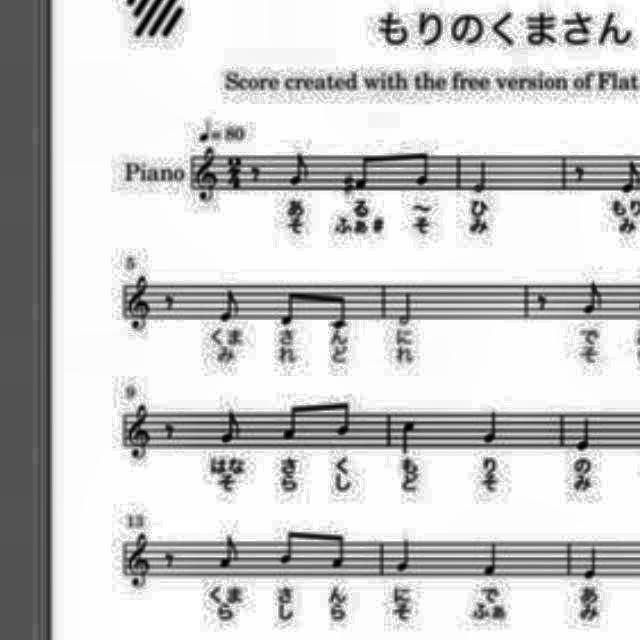Eighth-note: (324, 280, 360, 336), (280, 384, 312, 444), (274, 281, 310, 331), (352, 148, 384, 196), (329, 390, 358, 442), (214, 406, 246, 449), (411, 148, 439, 196), (276, 524, 304, 572), (212, 532, 244, 572), (216, 286, 246, 326), (576, 280, 606, 316), (326, 530, 350, 574), (284, 150, 310, 188)
Eighth-rest: (158, 414, 180, 446), (157, 286, 181, 314), (160, 542, 180, 574), (532, 286, 552, 314), (568, 162, 590, 185), (250, 162, 266, 186)
Half-note: (391, 284, 422, 328), (468, 154, 496, 198)
Quarter-note: (392, 532, 420, 582), (480, 402, 510, 448), (578, 538, 604, 586), (476, 536, 504, 580), (575, 411, 599, 457), (394, 416, 418, 460)
Treble-clef: (189, 143, 227, 205), (121, 401, 157, 465), (124, 274, 156, 334), (124, 532, 156, 592)
